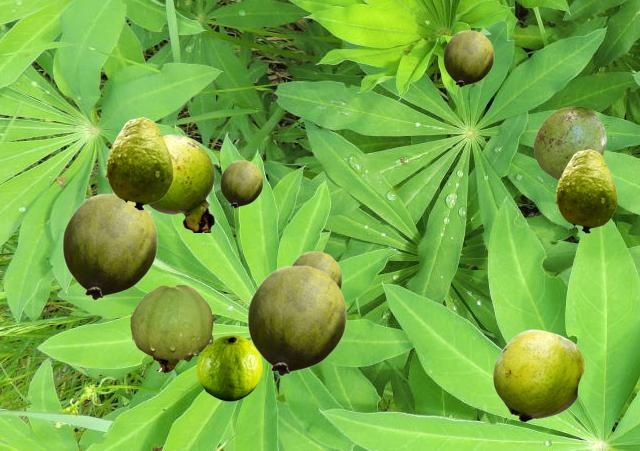guava: (247, 265, 346, 375), (62, 193, 157, 299), (493, 329, 584, 421), (130, 284, 212, 372), (148, 134, 214, 231), (105, 117, 172, 209), (533, 106, 605, 180), (555, 149, 616, 232), (196, 335, 261, 400), (443, 30, 493, 86), (220, 160, 262, 207), (292, 251, 341, 288)
